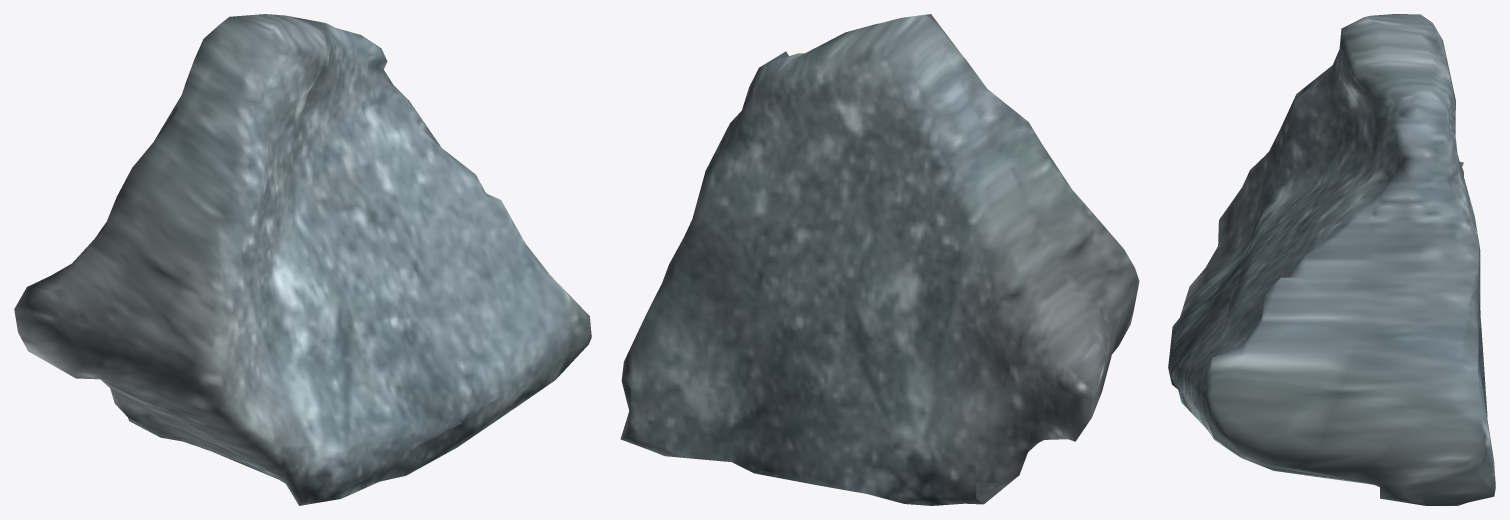
Rendered from sansui.FBX.
The picture shows the model from 3 angles, left to right: view 1: azimuth 30°, elevation 25°; view 2: azimuth 150°, elevation 25°; view 3: azimuth 270°, elevation 25°; orthographic projection. The views are drawn at different scales.
Parts seen in each view (by area): view 1: Polygonal_Model_1_Triangles__null_; view 2: Polygonal_Model_1_Triangles__null_; view 3: Polygonal_Model_1_Triangles__null_.
Boxes of the visible parts, x1,y1,x2,y2 form: Polygonal_Model_1_Triangles__null_: [14, 14, 591, 505]; Polygonal_Model_1_Triangles__null_: [620, 14, 1139, 505]; Polygonal_Model_1_Triangles__null_: [1168, 14, 1495, 505].
Size of the model in its own units: 86.61 by 56.21 by 73.77.
